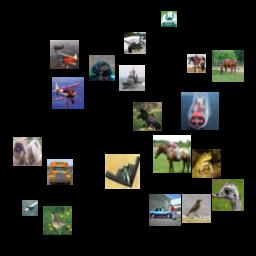airplane: (105, 154, 140, 189), (52, 77, 84, 109), (50, 40, 79, 69), (22, 200, 38, 216)
automobile: (149, 194, 181, 226), (161, 11, 177, 27)
bird: (212, 179, 244, 211), (182, 194, 211, 223), (43, 206, 72, 235)
deer: (133, 102, 162, 131)
dog: (13, 137, 42, 166), (89, 55, 115, 81)
frog: (192, 149, 221, 178)
ship: (181, 92, 219, 130), (119, 65, 145, 91)
truck: (47, 159, 73, 185)
